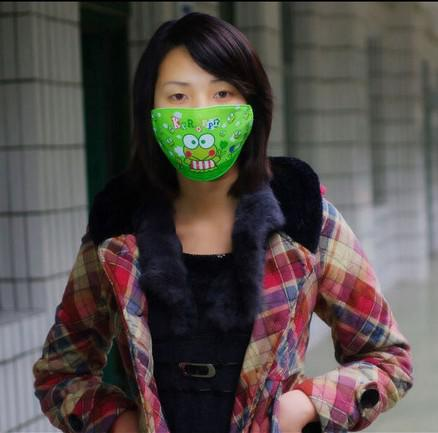OK: (152, 77, 257, 182)
